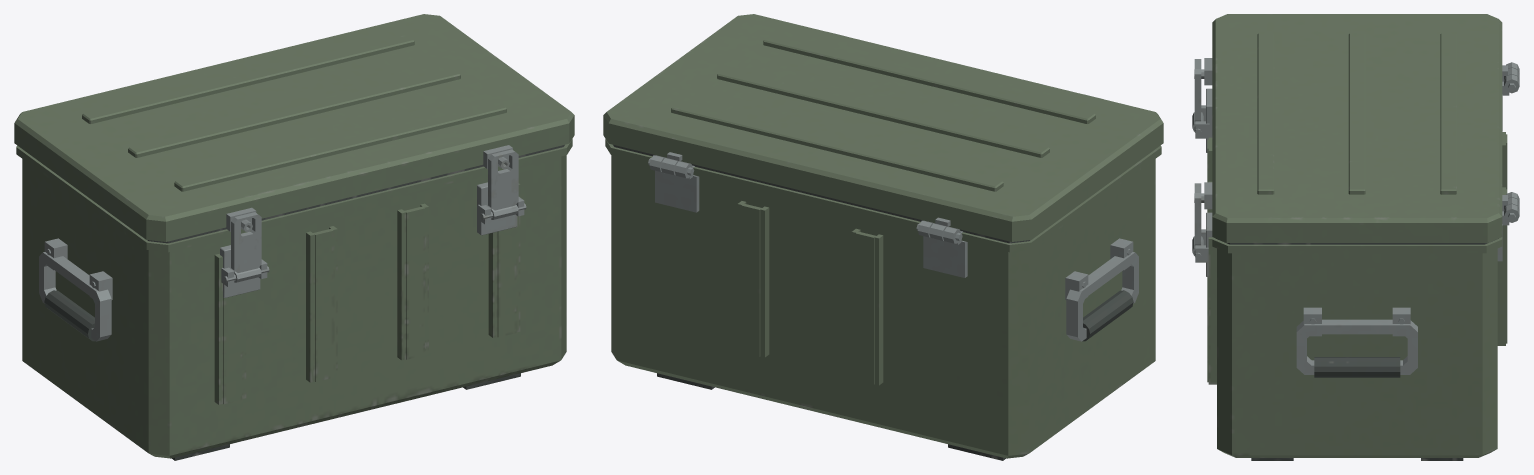
Rendered from bunker_military_supply_crate_metal.glb.
3 renders of one model, left to right at view 1: azimuth 30°, elevation 25°; view 2: azimuth 150°, elevation 25°; view 3: azimuth 270°, elevation 25°, orthographic.
Visible parts, largest first — view 1: SupplyCrate; view 2: SupplyCrate; view 3: SupplyCrate.
Boxes of the visible parts, x1,y1,x2,y2 form: SupplyCrate: (14, 14, 574, 460); SupplyCrate: (603, 14, 1163, 460); SupplyCrate: (1192, 14, 1519, 460).
Size of what is drawn, in the model's own units: 0.8 by 0.45 by 0.502.
1 material, 1 textured.
